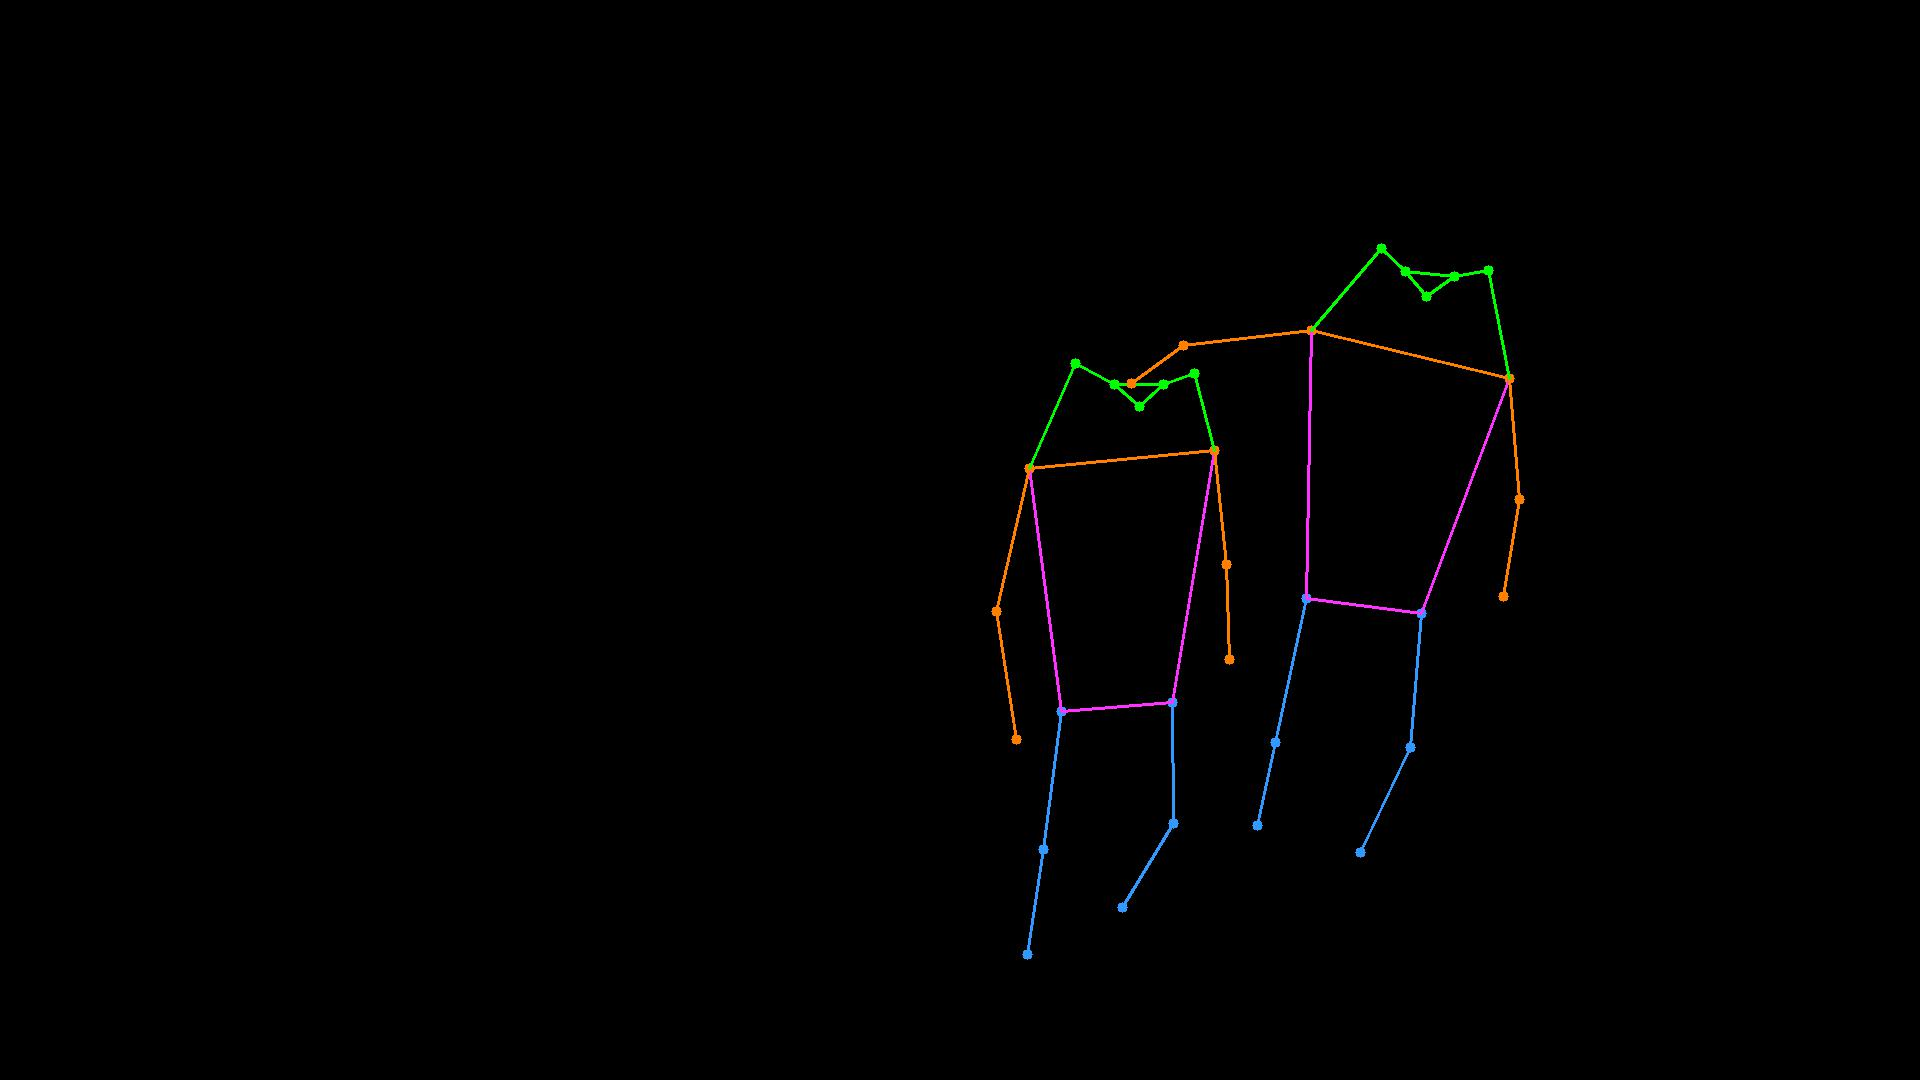normal: (899, 189, 1588, 1015)
